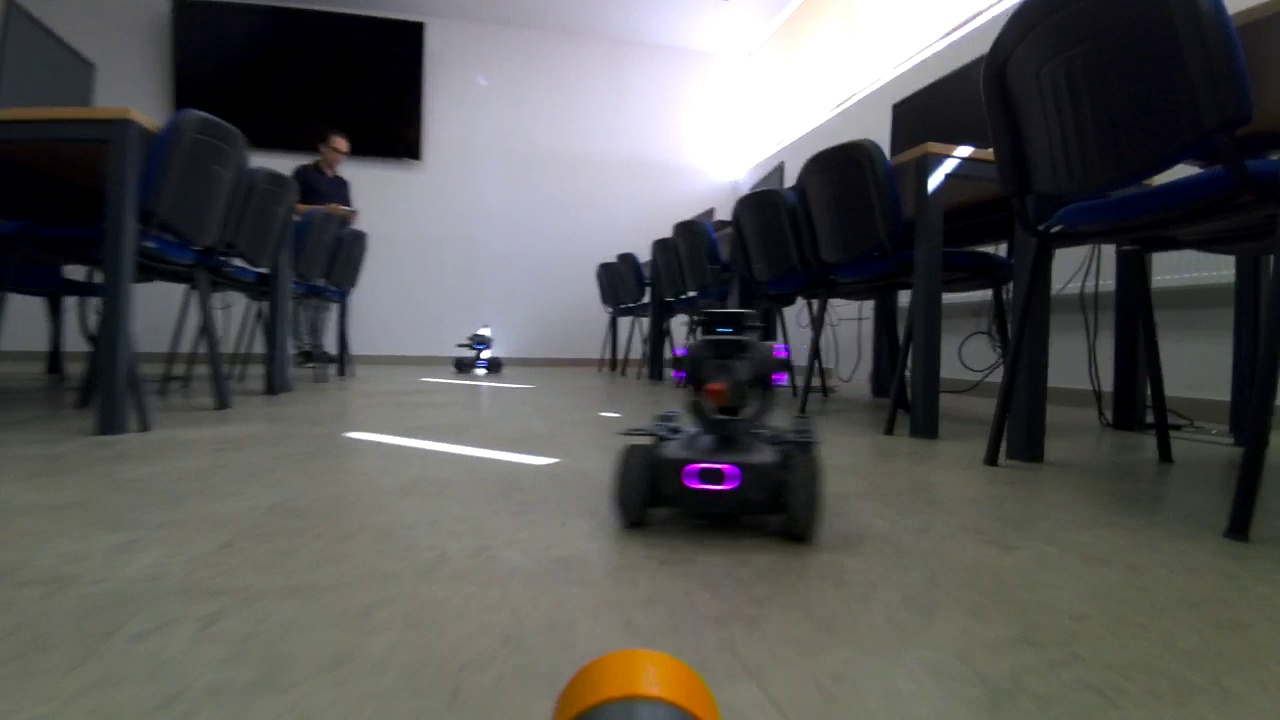robot: (600, 305, 817, 544), (451, 328, 504, 377)
